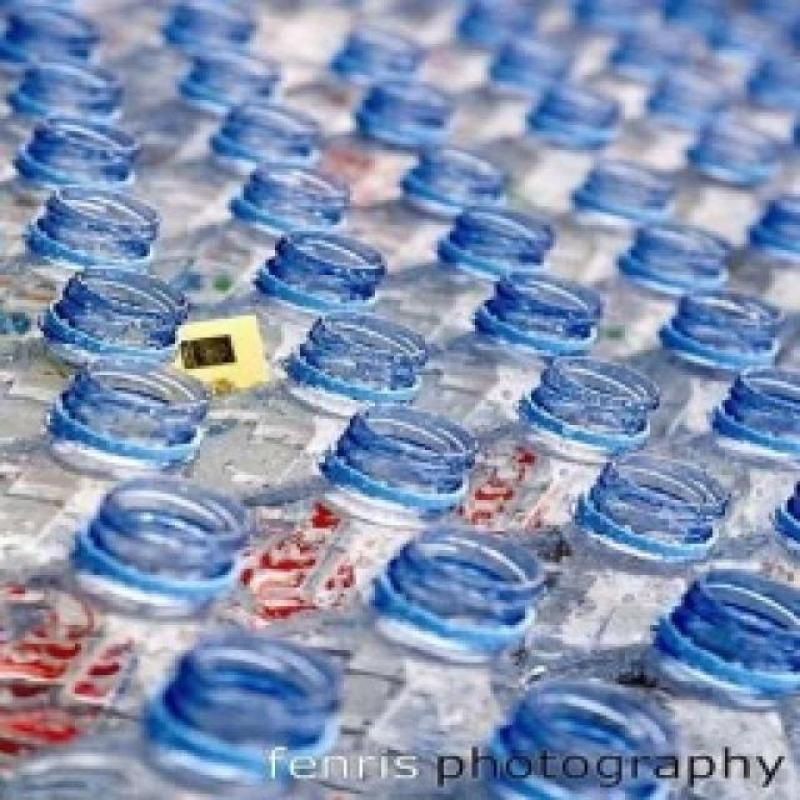botella: (256, 537, 541, 800), (512, 577, 799, 800), (228, 401, 488, 630), (0, 487, 244, 725), (0, 634, 338, 800), (486, 450, 730, 675), (0, 361, 219, 580), (458, 360, 664, 552), (0, 266, 202, 457), (244, 311, 434, 483), (415, 681, 684, 800), (203, 231, 391, 394), (412, 274, 600, 416), (620, 295, 790, 449), (0, 190, 172, 337), (178, 170, 357, 308), (0, 119, 144, 275), (587, 222, 741, 357), (536, 160, 690, 292), (155, 106, 324, 225), (144, 50, 296, 175), (395, 207, 555, 324), (0, 53, 131, 178), (489, 86, 611, 220), (345, 153, 507, 249), (314, 80, 461, 184), (115, 0, 261, 102), (274, 23, 428, 114), (614, 48, 726, 167), (679, 114, 777, 238), (684, 371, 800, 475), (435, 0, 539, 112), (459, 39, 563, 149), (731, 189, 800, 349), (562, 0, 662, 106), (595, 26, 686, 136), (706, 480, 800, 586), (0, 0, 102, 96), (752, 37, 800, 135), (706, 6, 766, 82)
